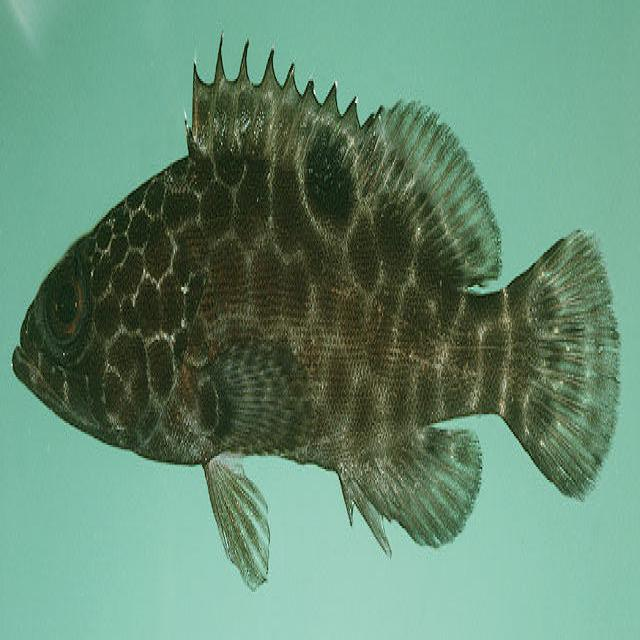ikan: (11, 28, 621, 592)
